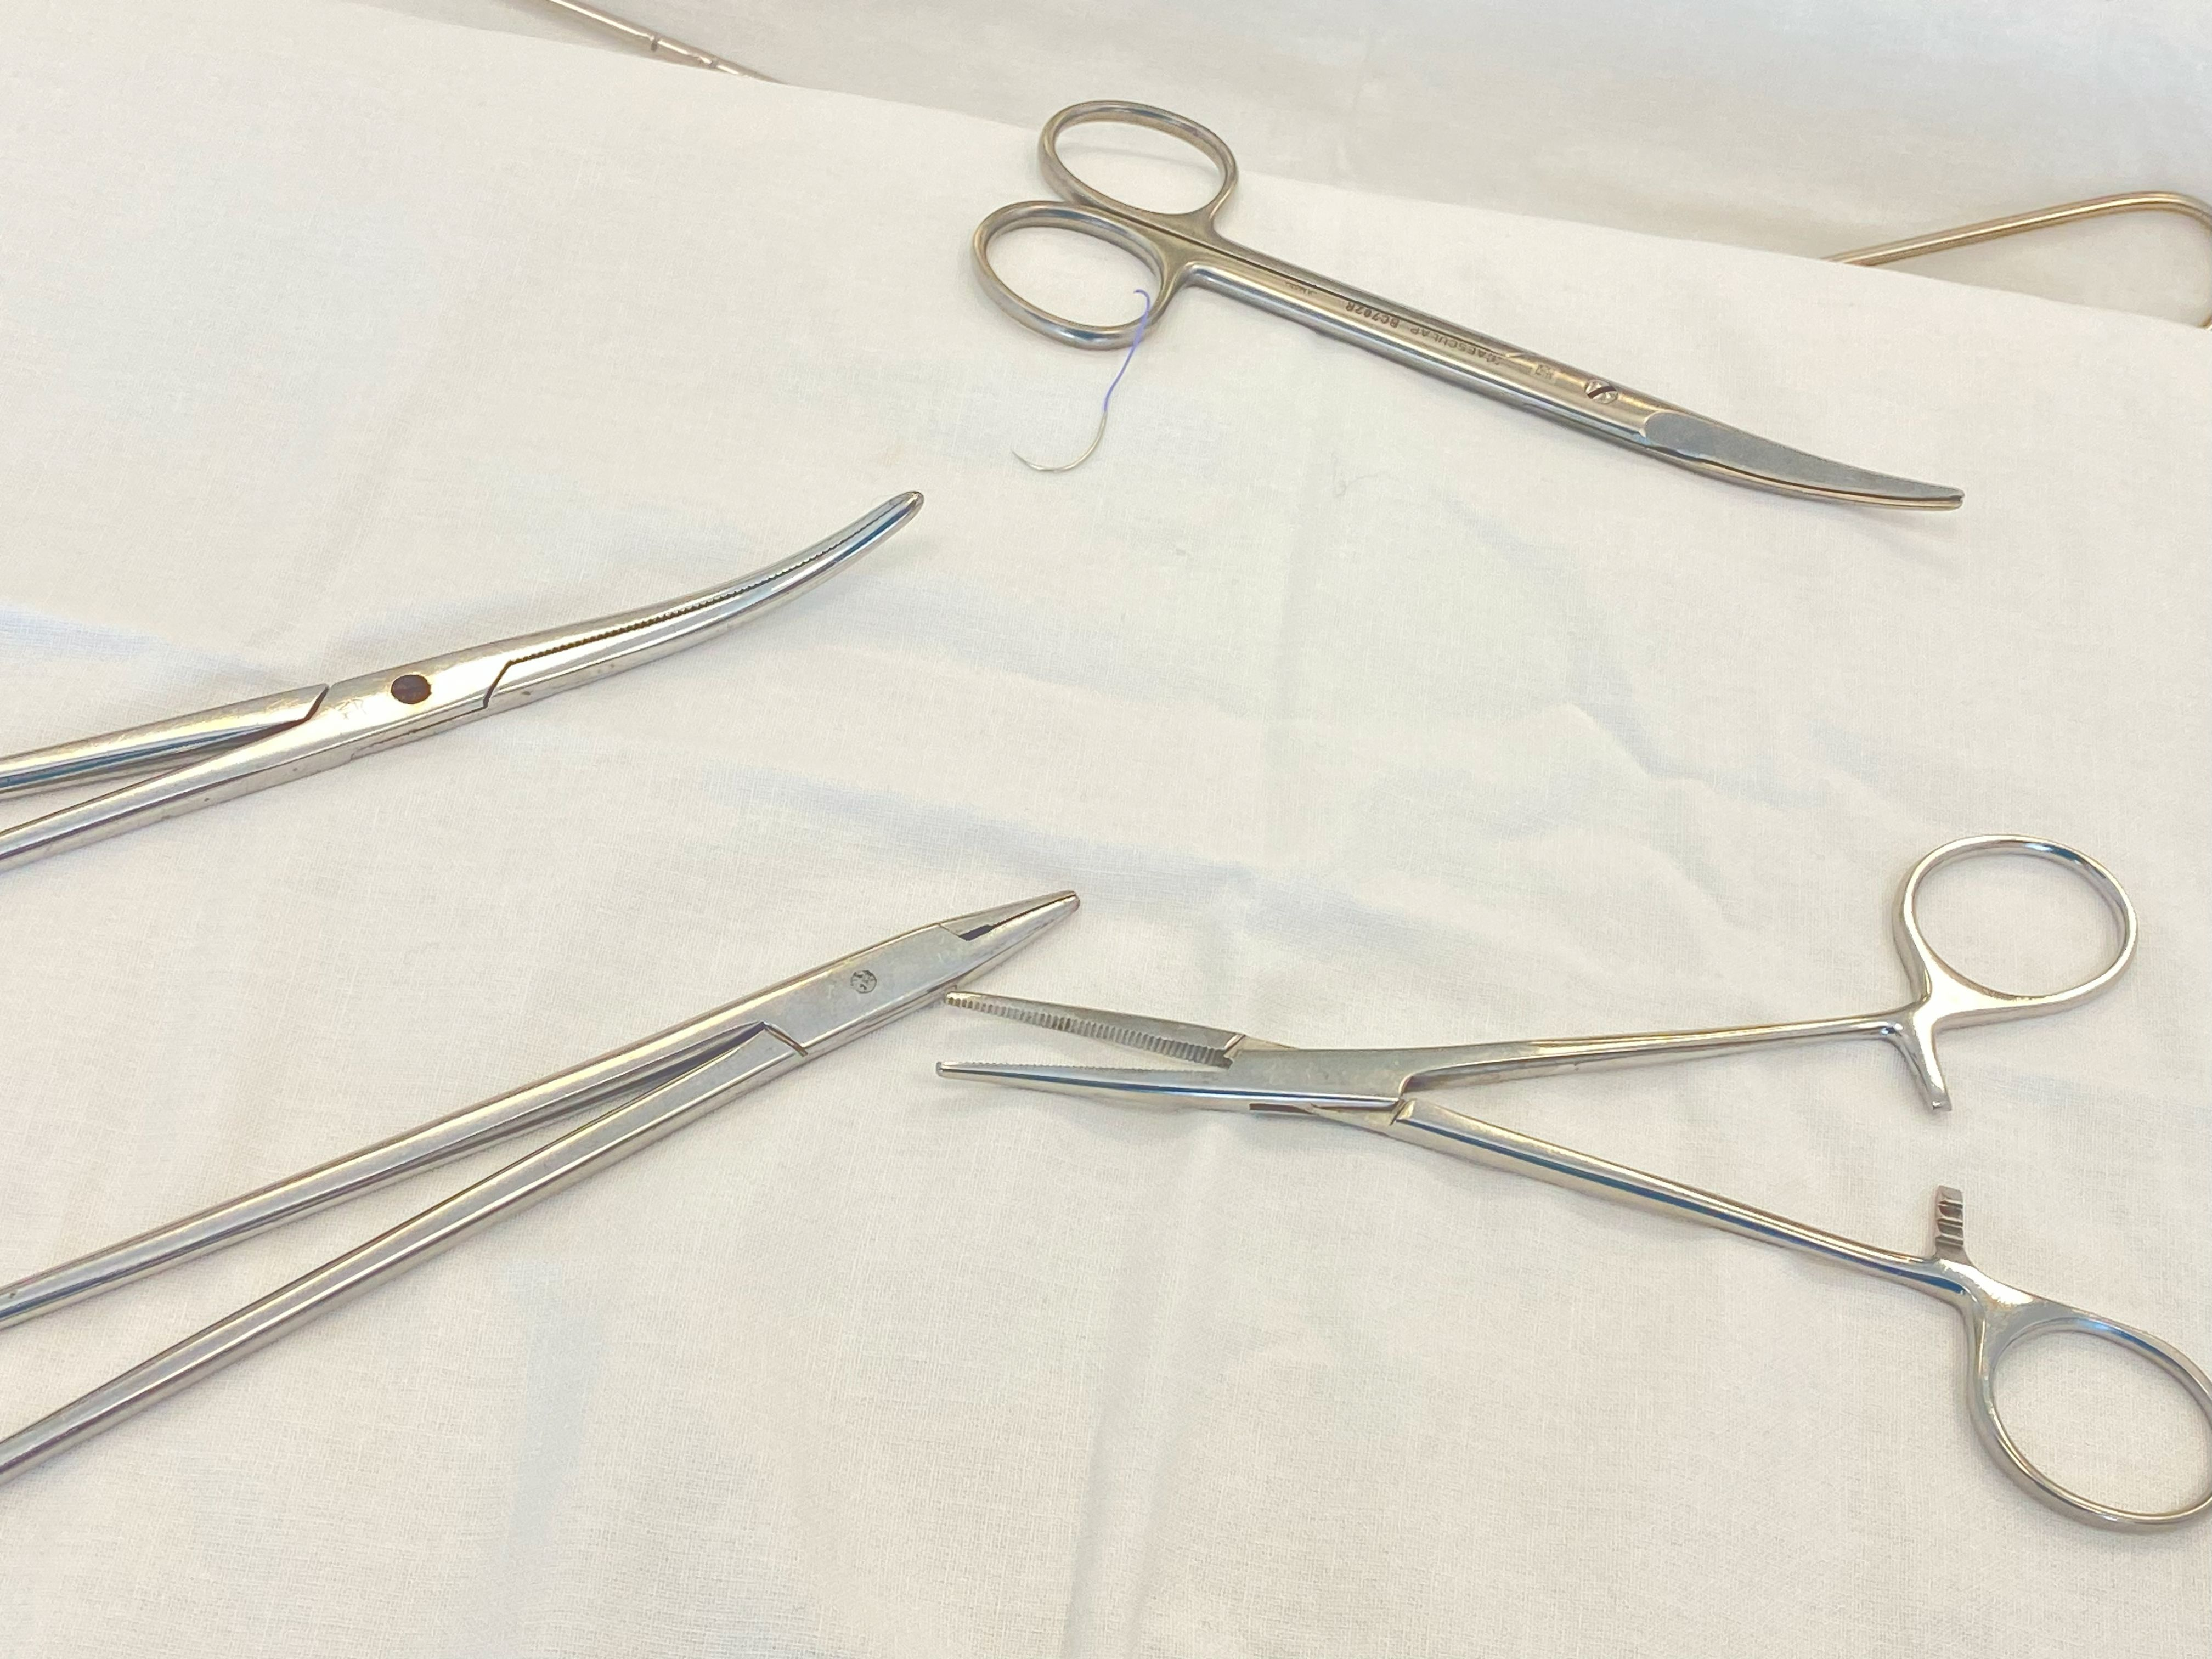clamp: (937, 835, 2212, 1532), (0, 890, 1080, 1481), (0, 491, 921, 868)
scissors: (972, 101, 1963, 509)
